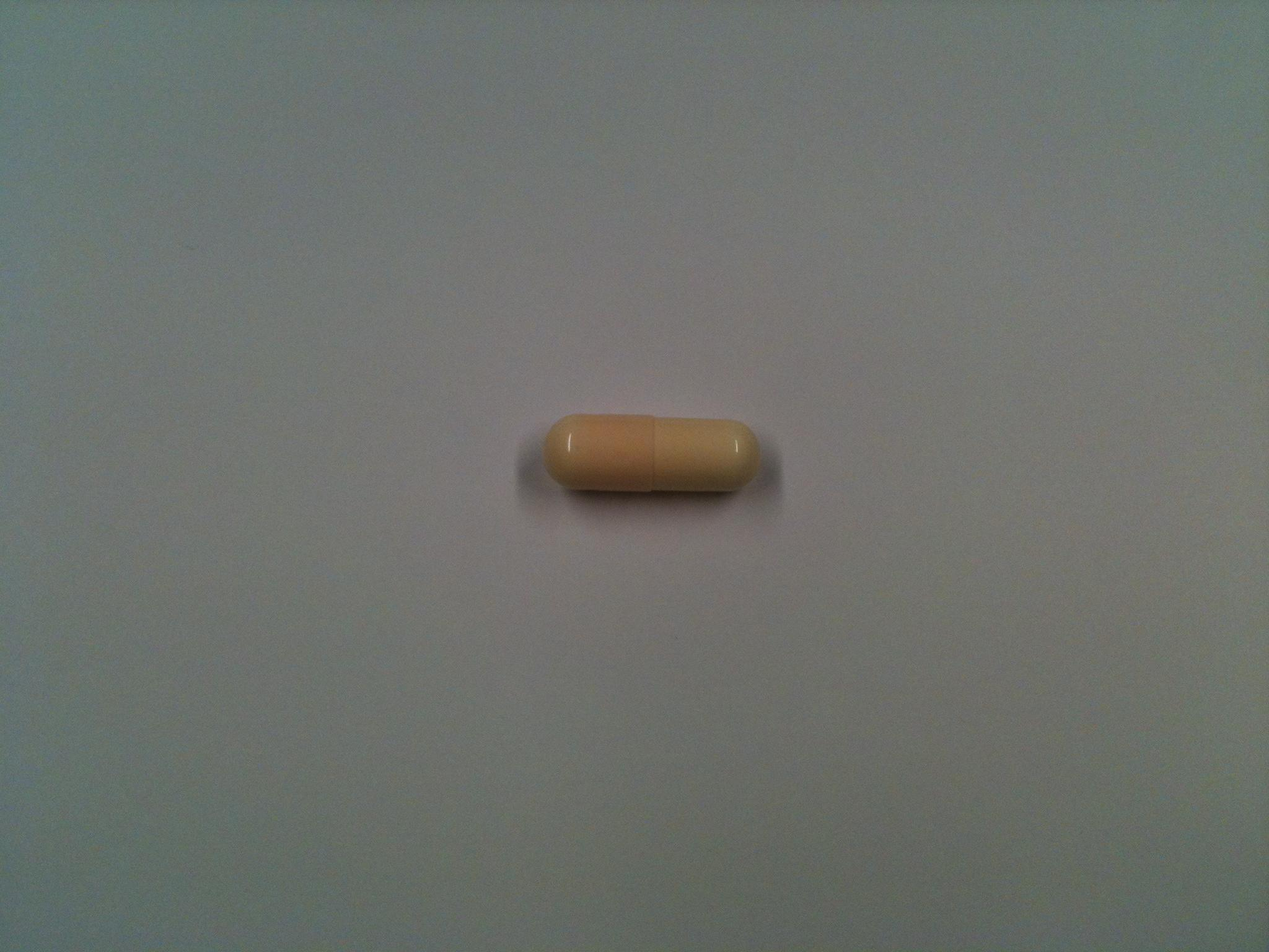Pill: (538, 408, 767, 500)
